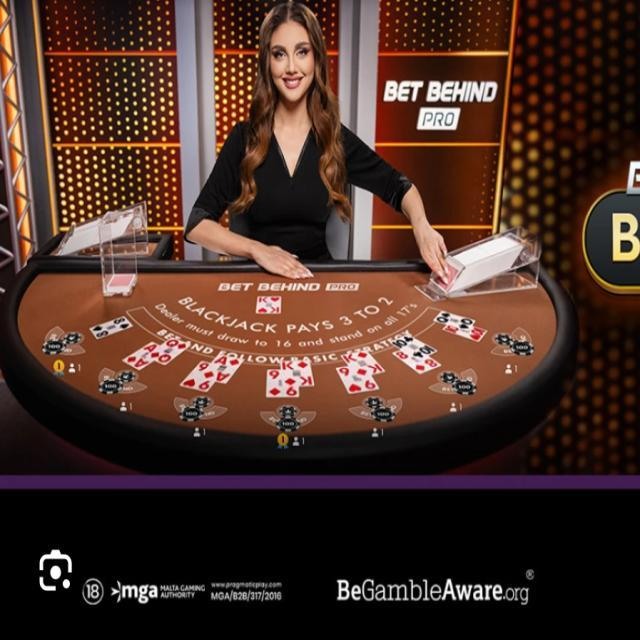Card-10: (391, 331, 436, 359), (443, 325, 487, 343)
Card-8: (391, 350, 440, 375), (89, 315, 132, 340)
Card-9: (336, 366, 379, 394), (180, 361, 215, 393), (267, 368, 300, 398)
Card-A: (204, 353, 243, 384), (122, 340, 160, 371)
Card-K: (340, 347, 384, 377), (282, 359, 313, 386), (256, 295, 281, 314)
Card-Q: (150, 337, 190, 366), (433, 310, 476, 330)
